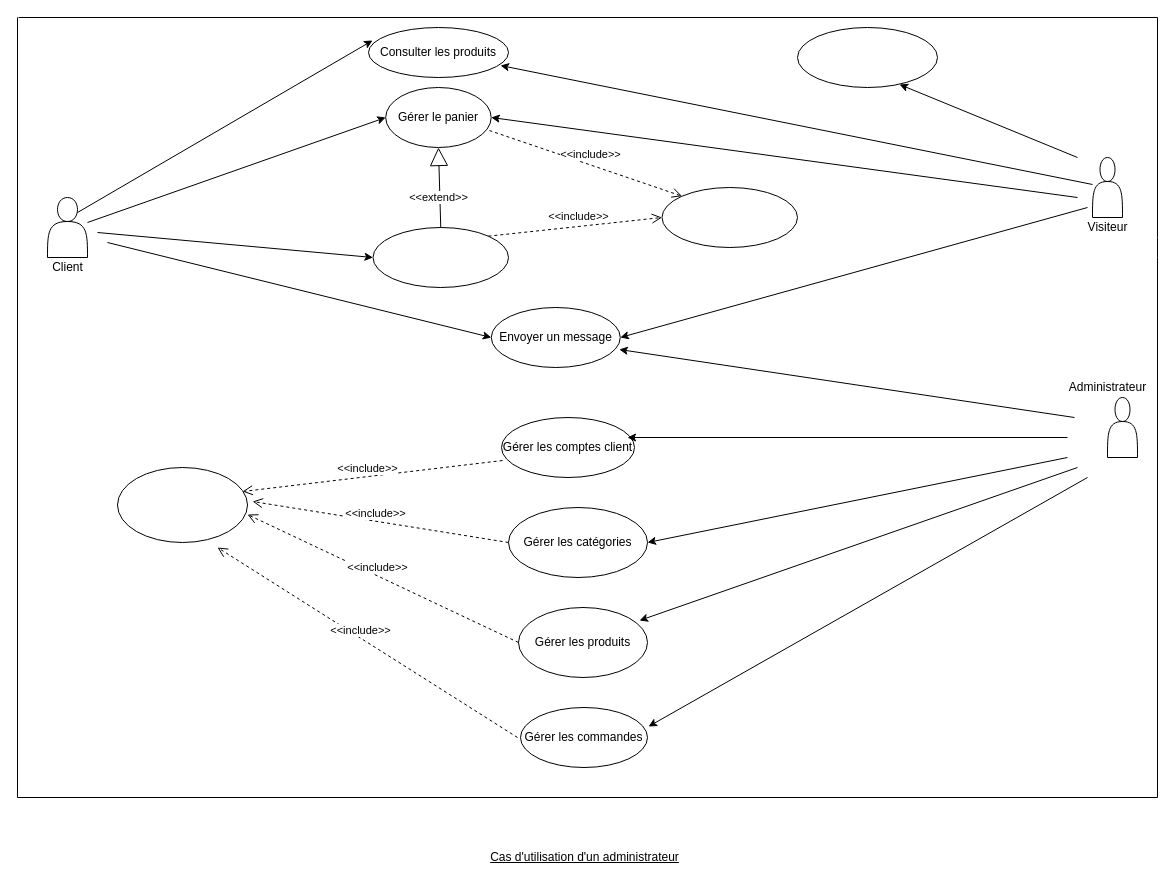
This 1176x885 diagram has some shape labels left out. Each missing label, with the box of its shape:
Authentification administrateur: (116, 466, 248, 542)
Authentifier le client: (661, 186, 798, 248)
Passer commande: (372, 226, 508, 288)
S'inscrire: (796, 26, 938, 88)
